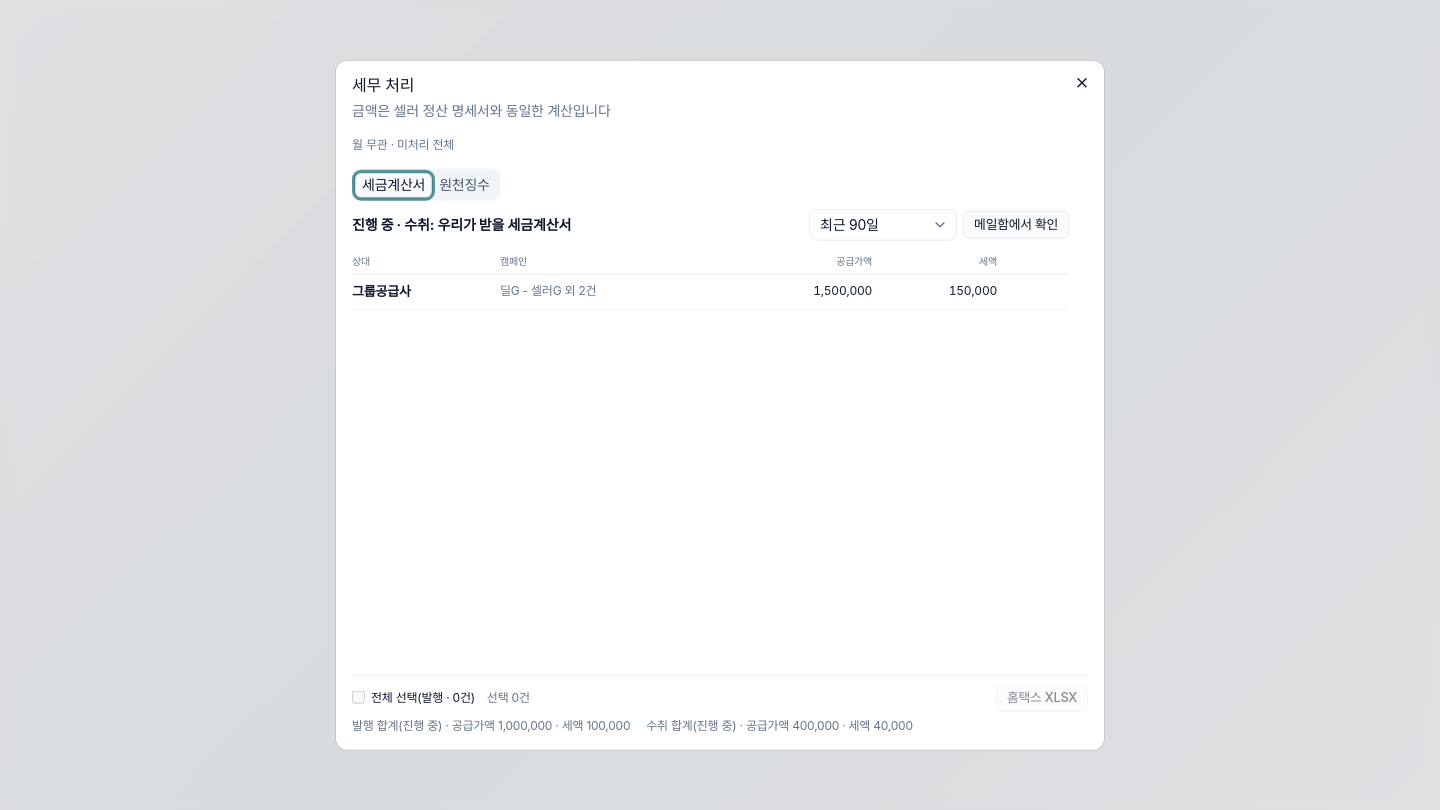
Test: 세무 처리 다이얼로그 — 수취 메일함 확인 › 정산 그룹 행은 대표 캠페인 키 하나로 그룹 전체 확인 여부를 판정한다 — 나머지 멤버의 개별 키가 없어도 확인됨으로 읽는다(오너 확정 2026-08-04, 그룹당 계산서 1장)
Expected: the text "그룹공급사" is shown, 352,283 -> 411,299
Step 1. Click the button "메일함에서 확인" → [1016, 225], box 963,211 -> 1069,239
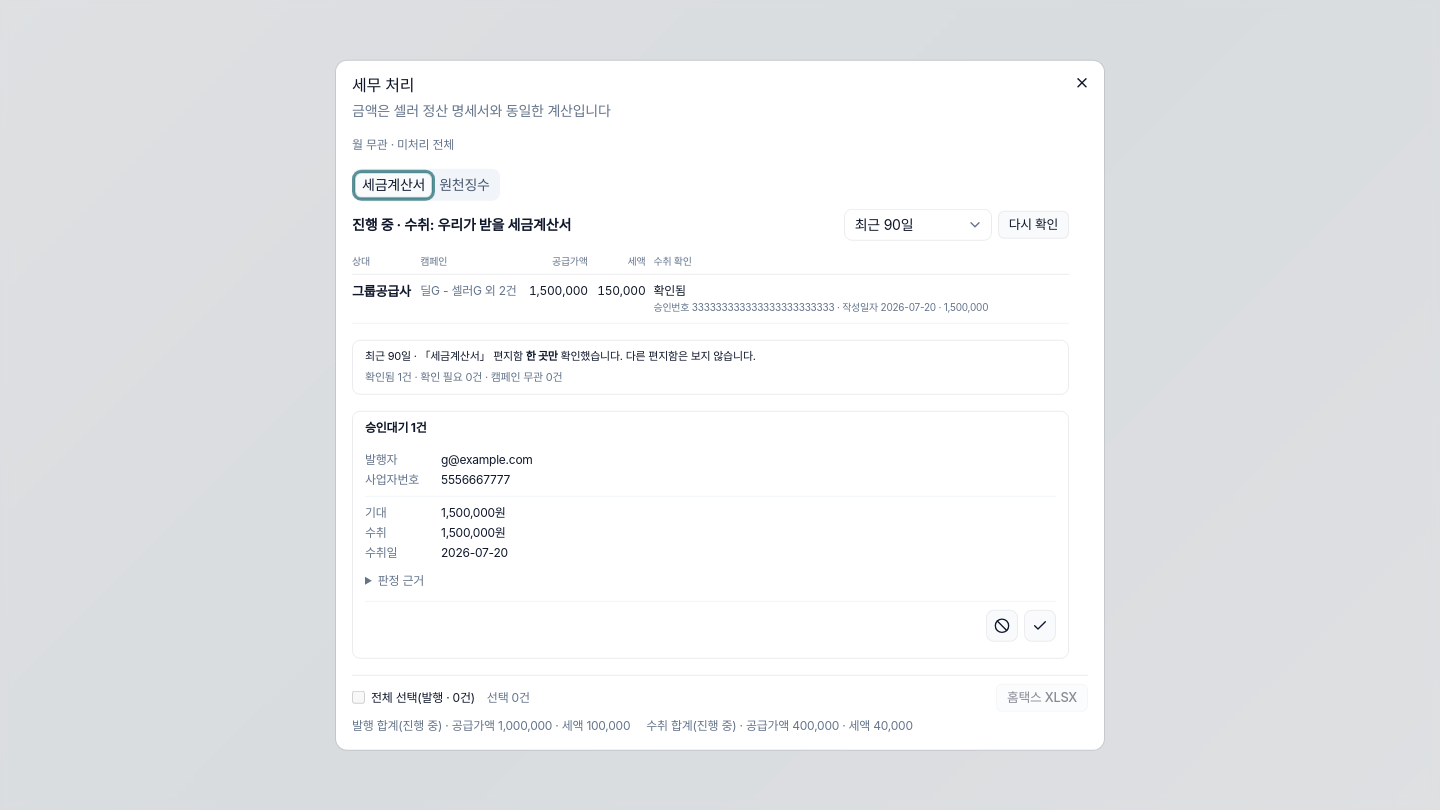
Expected: the text "확인됨" is shown, 653,283 -> 686,298
Expected: the text "승인번호 333333333333333333333333 · 작성일자 2026-07-20 · 1,500,000" is shown, 653,301 -> 997,314
